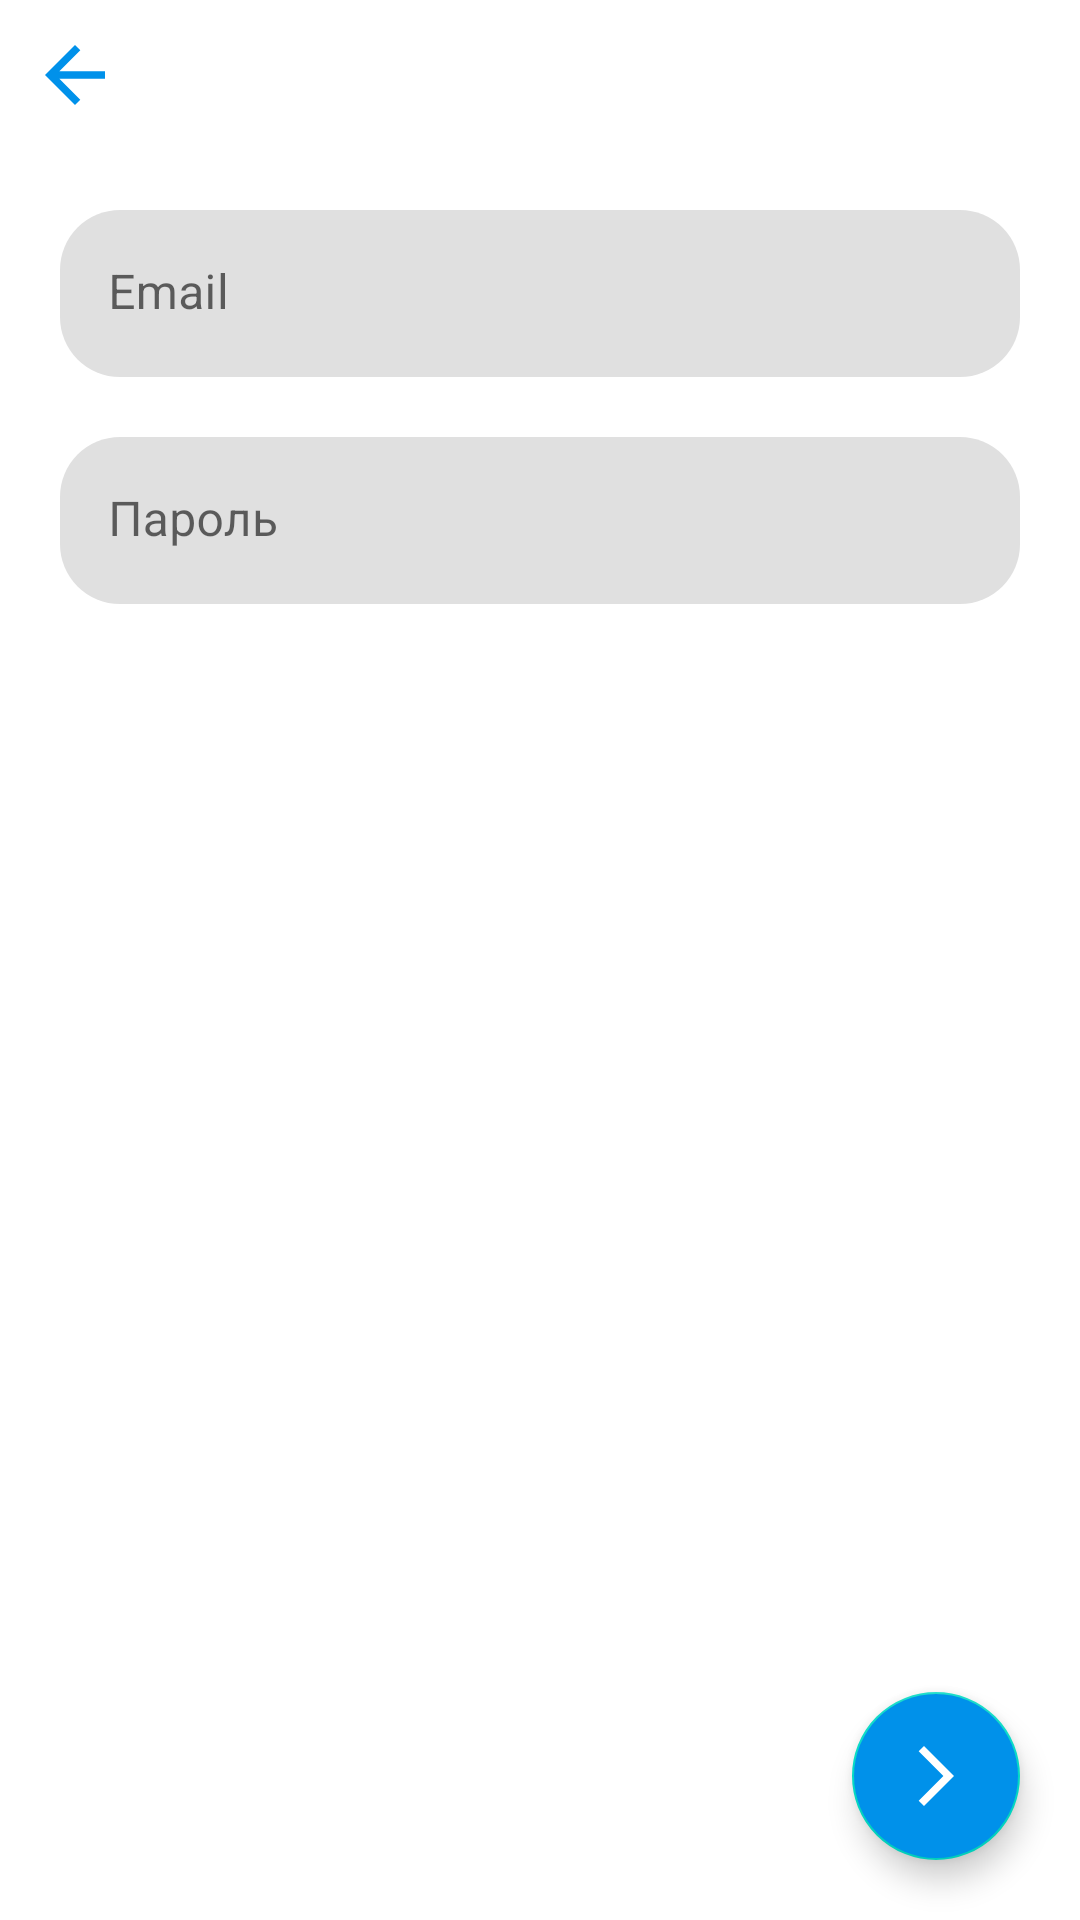

Icons on this 1080 × 1920 Android screen, each with the point to tap as [x,y]:
back: [75,75]
forward: [936,1776]
